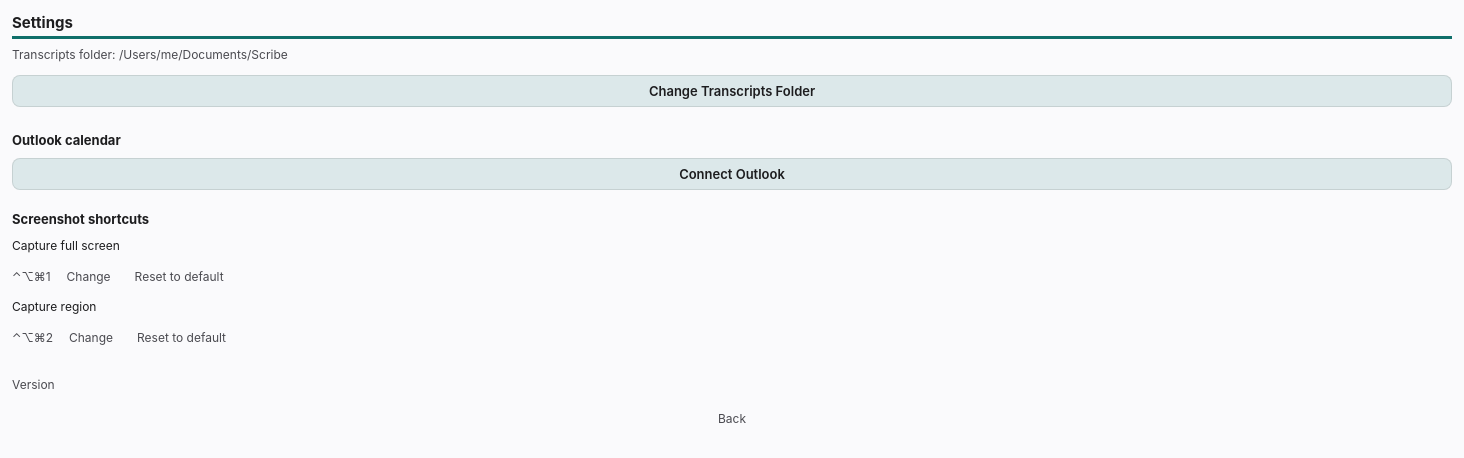
Scenario: the screenshot shortcuts in the settings view › announces the outcome in its own status region, apart from the folder status
Click the button with aria-label "Change Capture region shortcut, currently ⌃⌥⌘2" at (91,338), box [61, 324, 121, 352]
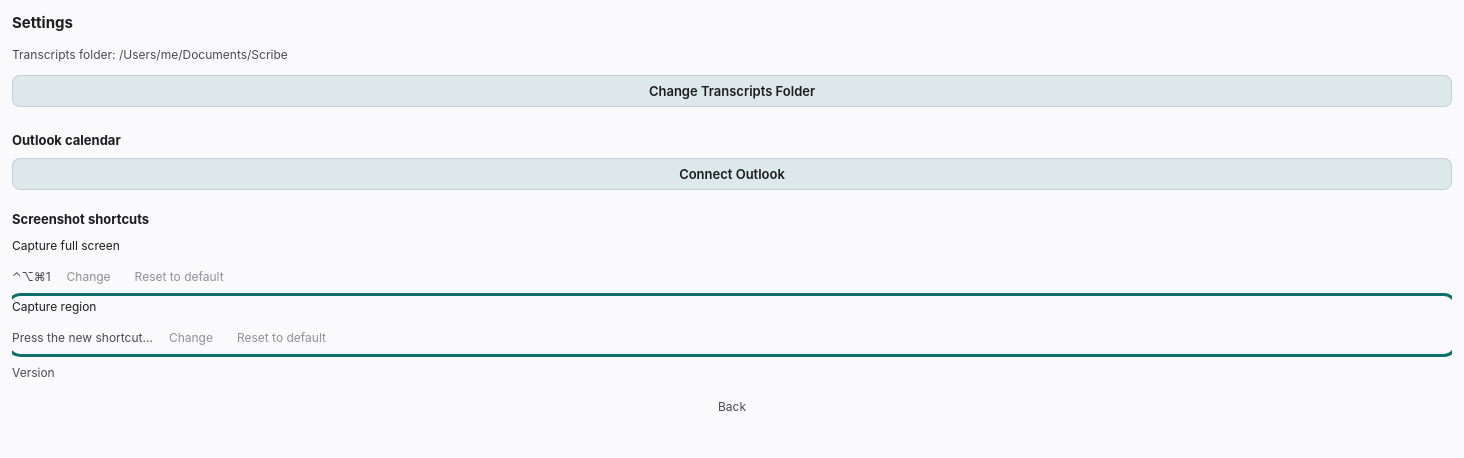
Type keys "{Control>}r{/Control}"
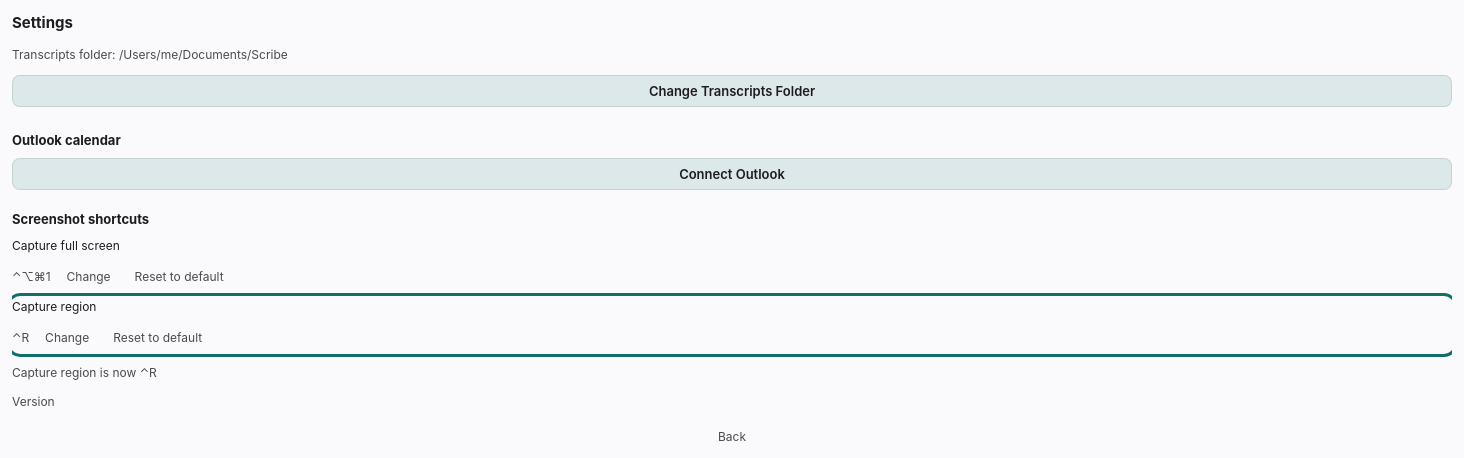
expect the message named "Shortcut status" reads "Capture region is now ⌃R": met, box [12, 365, 157, 380]
